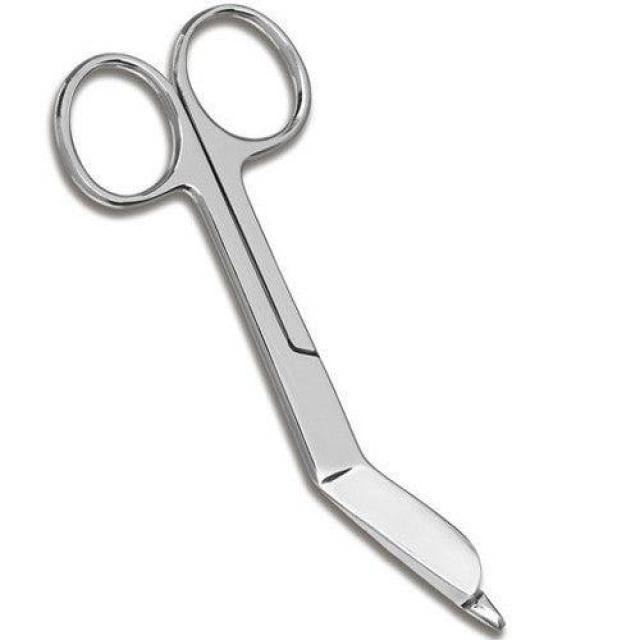scissors: (49, 2, 511, 633)
